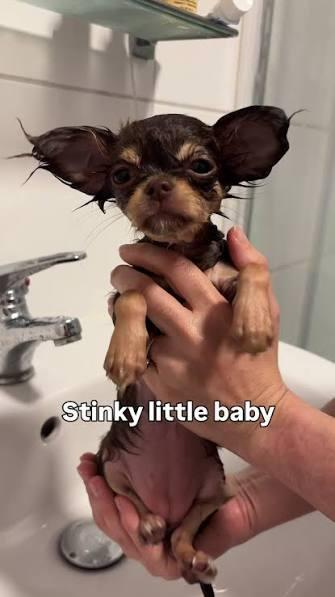puppy-dog: (20, 102, 300, 583)
